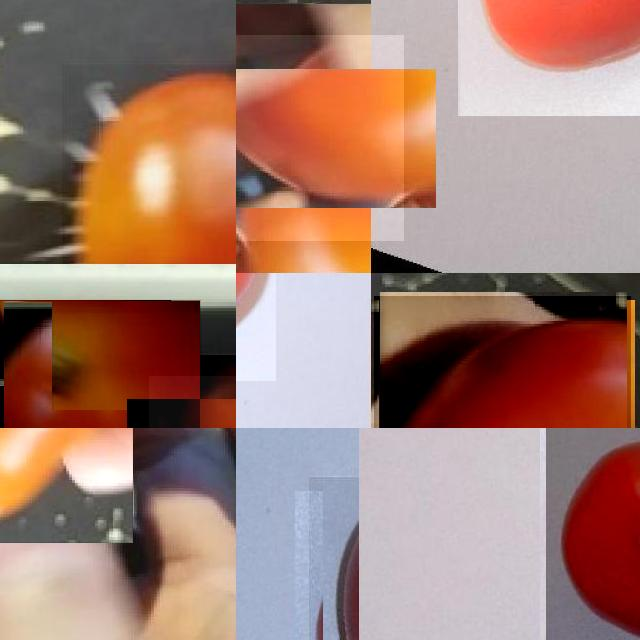0: (62, 65, 236, 264), (0, 300, 200, 428)
Fresh Tomato: (236, 35, 403, 240), (374, 296, 631, 428), (458, 0, 640, 116), (545, 428, 640, 640), (0, 428, 132, 542), (309, 476, 359, 640), (236, 273, 276, 381)
